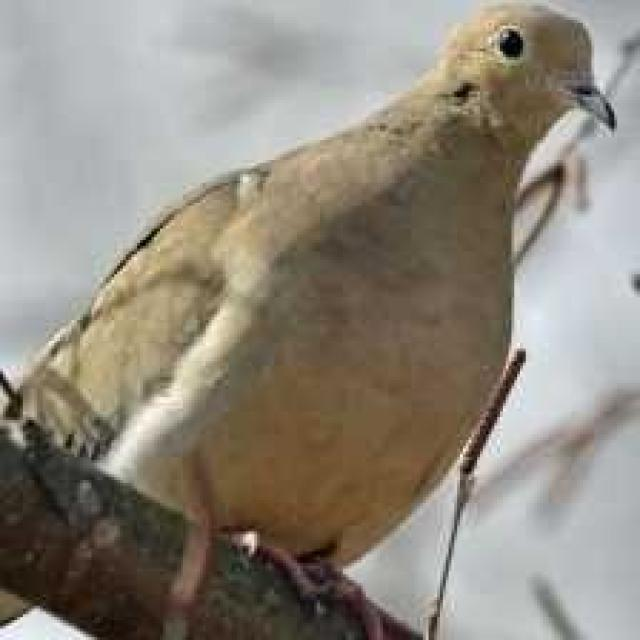dove: (28, 0, 622, 630)
